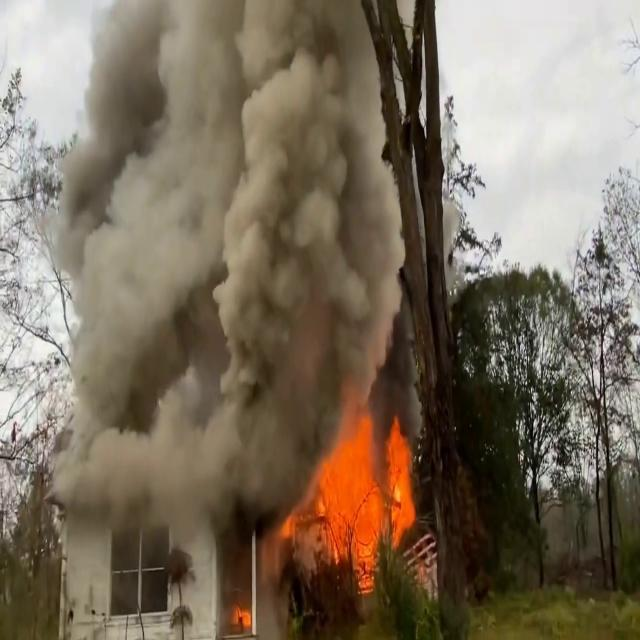Fire: (302, 408, 418, 588)
Smoke: (32, 1, 438, 499)
